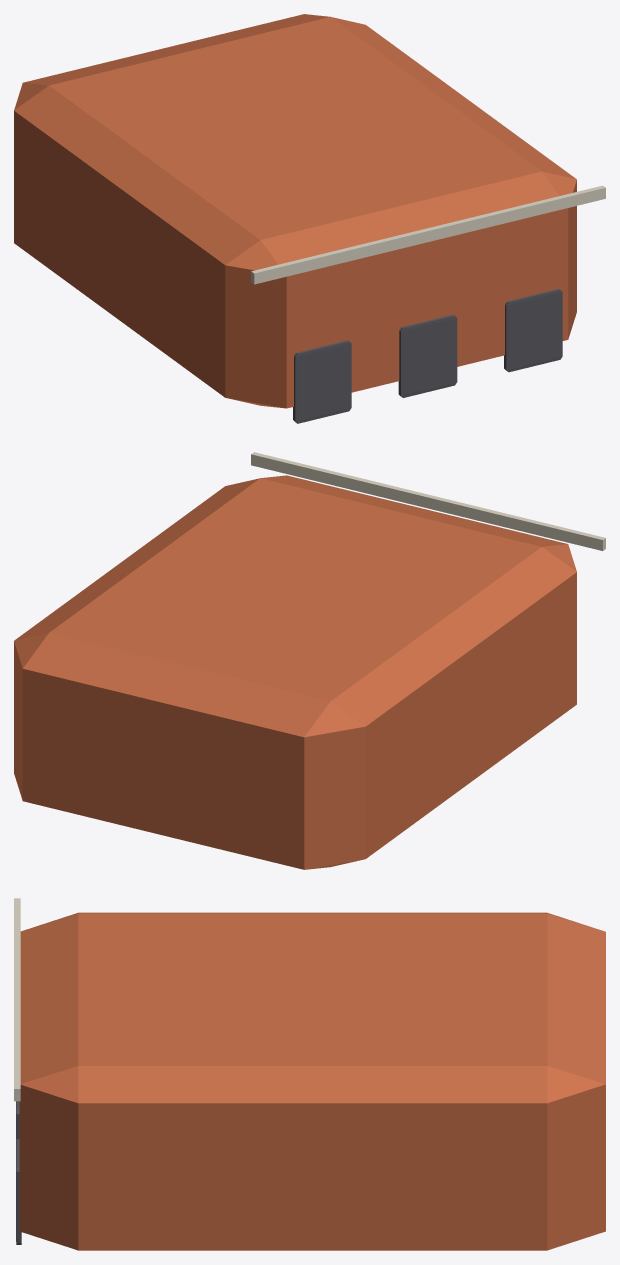
File: brick_warehouse.glb
The picture shows the model from 3 angles, top to bottom: view 1: azimuth 30°, elevation 25°; view 2: azimuth 150°, elevation 25°; view 3: azimuth 270°, elevation 25°; orthographic projection. The views are drawn at different scales.
Visible parts, largest first — view 1: walls, brickband, dock.001, dock, dock.002; view 2: walls, brickband; view 3: walls, brickband.
Part boxes in pixels (left/top/right/bottom): walls: left=14, top=14, right=576, bottom=408; brickband: left=251, top=185, right=605, bottom=284; dock.001: left=398, top=314, right=457, bottom=397; dock: left=293, top=340, right=351, bottom=423; dock.002: left=504, top=289, right=562, bottom=372; walls: left=14, top=475, right=576, bottom=869; brickband: left=251, top=452, right=605, bottom=550; walls: left=19, top=912, right=605, bottom=1250; brickband: left=14, top=898, right=20, bottom=1101.
Bounding box in the file's own units: 20 × 9 × 26.25.
